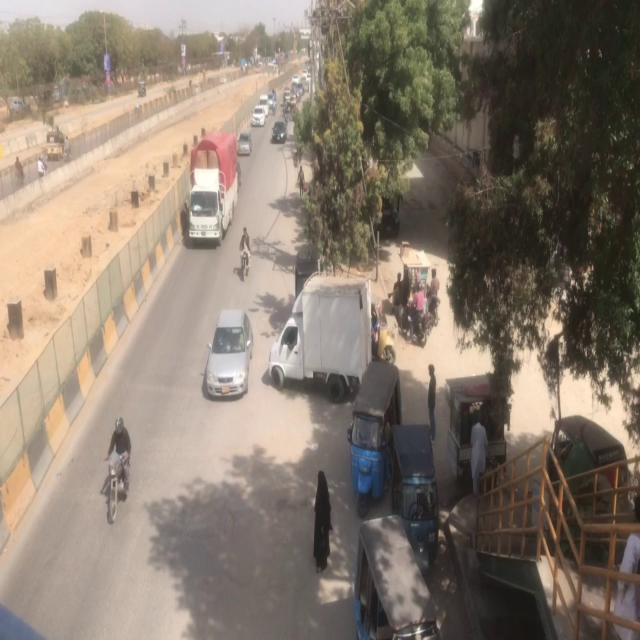car: (202, 300, 259, 412), (271, 119, 289, 146)
motorbike: (100, 402, 147, 529), (235, 219, 254, 281)
truck: (184, 124, 240, 245)
